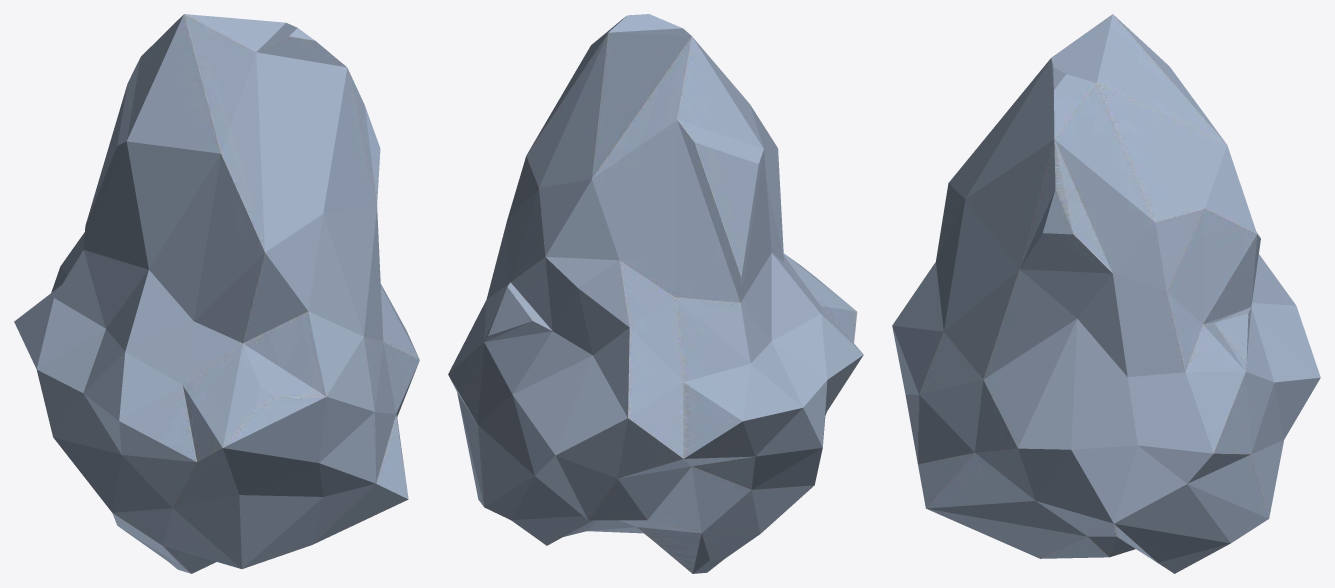
File: Iceberg-transformed.glb
The picture shows the model from 3 angles, left to right: view 1: azimuth 30°, elevation 25°; view 2: azimuth 150°, elevation 25°; view 3: azimuth 270°, elevation 25°; orthographic projection. The views are drawn at different scales.
Visible parts, largest first — view 1: Node; view 2: Node; view 3: Node.
Part boxes in pixels (left/top/right/bottom): Node: left=14, top=14, right=419, bottom=573; Node: left=448, top=14, right=863, bottom=573; Node: left=892, top=14, right=1320, bottom=573.
Size of the model in its own units: 382 by 568 by 412.
Materials: 1 (1 with a texture image).
